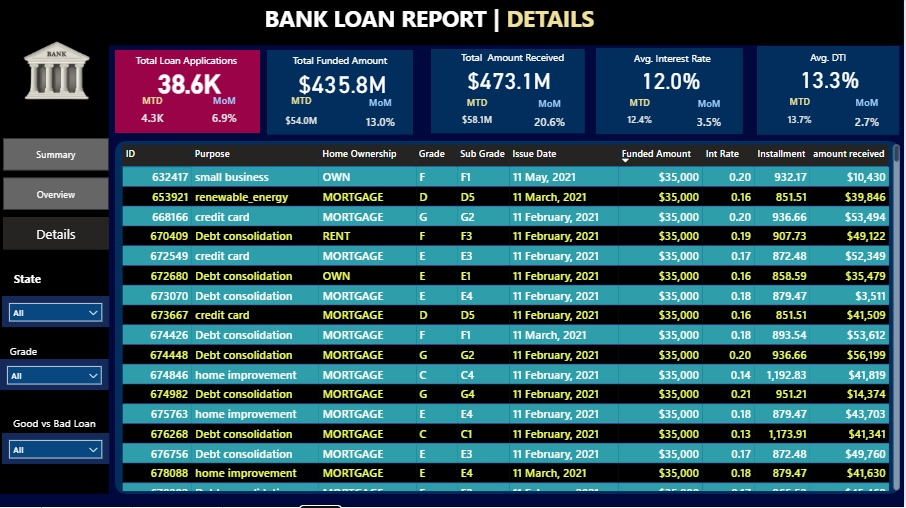

This screenshot's page, from the dashboard's own definition file:
{"tool":"powerbi","page":{"name":"Details","canvas":[1280,720],"ordinal":2},"visuals":[{"type":"shape","box":[0,58.1,154.5,643.5],"z":0},{"type":"shape","box":[1073.4,66.6,201.5,125.9],"z":0,"group":"g4"},{"type":"shape","box":[844.7,69.9,208.3,122.1],"z":0,"group":"g5"},{"type":"shape","box":[610.9,71.1,218.3,119.6],"z":0,"group":"g3"},{"type":"shape","box":[378.4,72.3,206.9,120.5],"z":0,"group":"g2"},{"type":"shape","box":[163.6,72.7,205.5,117.6],"z":0,"group":"g1"},{"type":"group","id":"g1","title":"Group 1","box":[158.7,72.3,211.2,117.6],"z":1000},{"type":"card","fields":{"Values":["Bank_loan_data.Avg DTI"]},"box":[1080.1,79,191.4,64.9],"z":1000,"group":"g4"},{"type":"card","fields":{"Values":["Bank_loan_data.avg interest rate"]},"box":[851.7,81.9,197.8,62.9],"z":1000,"group":"g5"},{"type":"card","fields":{"Values":["Bank_loan_data.Total amount received"]},"box":[618.2,82.8,207.2,61.6],"z":1000,"group":"g3"},{"type":"card","fields":{"Values":["Bank_loan_data.Total Loan Applications"]},"box":[186.5,88.8,161.9,55.3],"z":1000,"group":"g1"},{"type":"card","fields":{"Values":["Bank_loan_data.Total Funded Amount"]},"box":[390.6,94,188.5,50.7],"z":1000,"group":"g2"},{"type":"shape","box":[0,0,1280,65.5],"z":2000},{"type":"textbox","box":[1072.9,67.5,201.5,34.3],"z":2000,"group":"g4"},{"type":"textbox","box":[625.5,68,203,36.3],"z":2000,"group":"g3"},{"type":"textbox","box":[865.8,69.4,173.9,39.9],"z":2000,"group":"g5"},{"type":"textbox","box":[158.7,72.3,211.2,37.1],"z":2000,"group":"g1"},{"type":"textbox","box":[381.4,72.4,201.2,33.5],"z":2000,"group":"g2"},{"type":"card","title":"MTD","fields":{"Values":["Bank_loan_data.MTD Loan Applications"]},"box":[186.3,134.8,58.1,54.8],"z":3000,"group":"g1"},{"type":"card","title":"MTD","fields":{"Values":["Bank_loan_data.MTD funded amount"]},"box":[393.4,135.2,66.6,61.8],"z":3000,"group":"g2"},{"type":"card","title":"MTD","fields":{"Values":["Bank_loan_data.MTD avg DTI"]},"box":[1094.1,136.4,79,56.3],"z":3000,"group":"g4"},{"type":"card","title":"MTD","fields":{"Values":["Bank_loan_data.MTD Received  amount"]},"box":[633.4,137.4,85.6,53.5],"z":3000,"group":"g3"},{"type":"card","title":"MTD","fields":{"Values":["Bank_loan_data.MTD avg interest rate"]},"box":[866.1,137.6,81.7,54.6],"z":3000,"group":"g5"},{"type":"shape","box":[163,201.3,1112.6,500.3],"z":3000},{"type":"card","title":"MoM","fields":{"Values":["Bank_loan_data.MoM Loan Applications"]},"box":[287,134.8,60.9,54.8],"z":4000,"group":"g1"},{"type":"card","title":"MoM","fields":{"Values":["Bank_loan_data.MoM total funded amount"]},"box":[501.1,136.8,75.1,58.6],"z":4000,"group":"g2"},{"type":"card","title":"MoM","fields":{"Values":["Bank_loan_data.MoM avg DTI"]},"box":[1183.4,138.1,91,59.6],"z":4000,"group":"g4"},{"type":"card","title":"MoM","fields":{"Values":["Bank_loan_data.MoM total amount received"]},"box":[730.1,138.9,98.6,56.6],"z":4000,"group":"g3"},{"type":"card","title":"MoM","fields":{"Values":["Bank_loan_data.MoM avg int rate"]},"box":[958.5,139.2,94.1,57.8],"z":4000,"group":"g5"},{"type":"textbox","box":[0,379.8,78,41.1],"z":4000},{"type":"textbox","box":[369.6,0,540.9,58.8],"z":5000},{"type":"group","id":"g2","title":"Group 1","box":[378.4,72.3,206.9,124.7],"z":6000},{"type":"group","id":"g3","title":"Group 1","box":[610.9,68,218.3,129],"z":7000},{"type":"group","id":"g4","title":"Group 1","box":[1072.9,66.6,202.7,130.4],"z":8000},{"type":"group","id":"g5","title":"Group 1","box":[844.7,69.4,208.3,127.6],"z":9000},{"type":"slicer","fields":{"Values":["Bank_loan_data.address_state"]},"box":[2.8,420.9,151.7,43.9],"z":10000},{"type":"slicer","fields":{"Values":["Bank_loan_data.grade"]},"box":[0,510.2,154.5,43.9],"z":11000},{"type":"textbox","box":[0,483.3,66.6,29.8],"z":12000},{"type":"slicer","fields":{"Values":["Bank_loan_data.Good vs Bad Loan"]},"box":[2.8,615.1,151.7,43.9],"z":13000},{"type":"textbox","box":[0,585.4,154.5,29.8],"z":14000},{"type":"tableEx","fields":{"Values":["Bank_loan_data.id","Bank_loan_data.purpose","Bank_loan_data.home_ownership","Bank_loan_data.grade","Bank_loan_data.sub_grade","Bank_loan_data.issue_date","Bank_loan_data.Total Funded Amount","Sum(Bank_loan_data.int_rate)","Sum(Bank_loan_data.installment)","Bank_loan_data.Total amount received"]},"box":[167.2,201.3,1112.6,500.3],"z":15000},{"type":"pageNavigator","box":[4.3,197,150.2,160.2],"z":16000},{"type":"image","box":[12.8,21.3,133.2,161.6],"z":17000}]}

Visuals, with their boxes in screenshot pixels (x1, y1, x2, y2), scaled from the page's 1280x720 canvas onto the 906x508 screenshot:
shape: detection(0, 41, 109, 495)
shape: detection(760, 47, 902, 136)
shape: detection(598, 49, 745, 135)
shape: detection(432, 50, 587, 135)
shape: detection(268, 51, 414, 136)
shape: detection(116, 51, 261, 134)
"Group 1" group: detection(112, 51, 262, 134)
card - Bank_loan_data.Avg DTI: detection(765, 56, 900, 102)
card - Bank_loan_data.avg interest rate: detection(603, 58, 743, 102)
card - Bank_loan_data.Total amount received: detection(438, 58, 584, 102)
card - Bank_loan_data.Total Loan Applications: detection(132, 63, 247, 102)
card - Bank_loan_data.Total Funded Amount: detection(276, 66, 410, 102)
shape: detection(0, 0, 905, 46)
textbox: detection(759, 48, 902, 72)
textbox: detection(443, 48, 586, 74)
textbox: detection(613, 49, 736, 77)
textbox: detection(112, 51, 262, 77)
textbox: detection(270, 51, 412, 75)
"MTD" card: detection(132, 95, 173, 134)
"MTD" card: detection(278, 95, 326, 139)
"MTD" card: detection(774, 96, 830, 136)
"MTD" card: detection(448, 97, 509, 135)
"MTD" card: detection(613, 97, 671, 136)
shape: detection(115, 142, 903, 495)
"MoM" card: detection(203, 95, 246, 134)
"MoM" card: detection(355, 97, 408, 138)
"MoM" card: detection(838, 97, 902, 139)
"MoM" card: detection(517, 98, 587, 138)
"MoM" card: detection(678, 98, 745, 139)
textbox: detection(0, 268, 55, 297)
textbox: detection(262, 0, 644, 41)
"Group 1" group: detection(268, 51, 414, 139)
"Group 1" group: detection(432, 48, 587, 139)
"Group 1" group: detection(759, 47, 903, 139)
"Group 1" group: detection(598, 49, 745, 139)
slicer - Bank_loan_data.address_state: detection(2, 297, 109, 328)
slicer - Bank_loan_data.grade: detection(0, 360, 109, 391)
textbox: detection(0, 341, 47, 362)
slicer - Bank_loan_data.Good vs Bad Loan: detection(2, 434, 109, 465)
textbox: detection(0, 413, 109, 434)
tableEx - Bank_loan_data.id x Bank_loan_data.purpose: detection(118, 142, 905, 495)
pageNavigator: detection(3, 139, 109, 252)
image: detection(9, 15, 103, 129)
